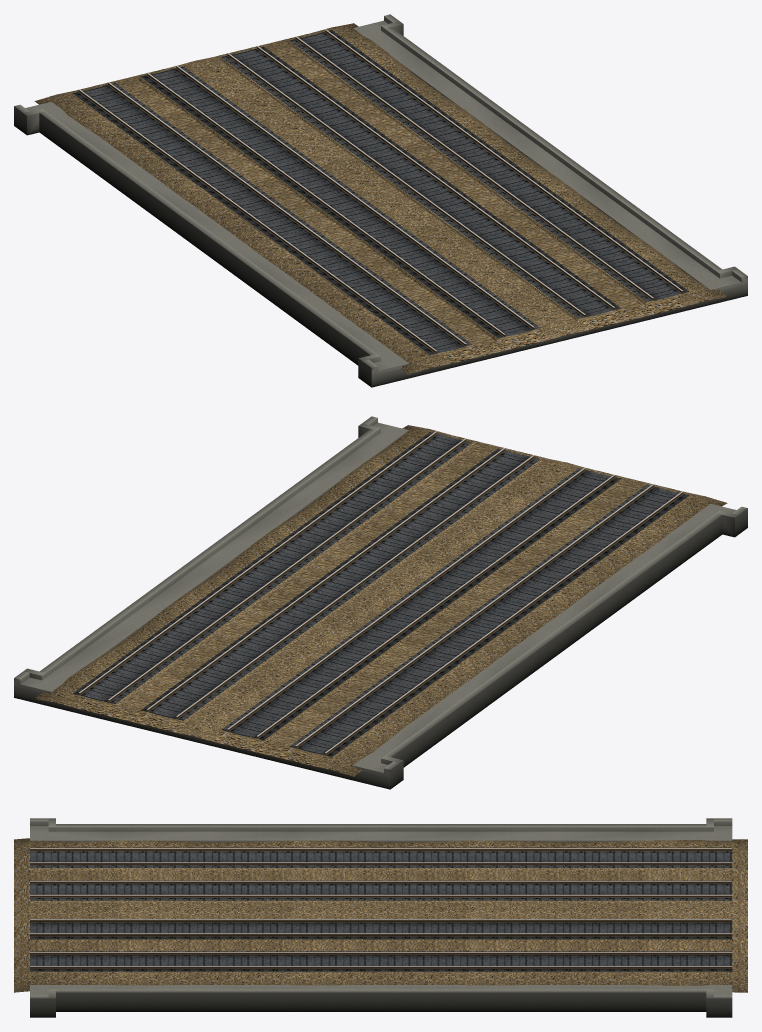
File: 4RAIL_JR.glb
The picture shows the model from 3 angles, top to bottom: view 1: azimuth 30°, elevation 25°; view 2: azimuth 150°, elevation 25°; view 3: azimuth 270°, elevation 25°; orthographic projection.
Parts seen in each view (by area): view 1: obj4; view 2: obj4; view 3: obj4.
Boxes of the visible parts, x1,y1,x2,y2 form: obj4: (14, 14, 747, 387); obj4: (14, 416, 747, 789); obj4: (14, 818, 747, 1017).
Size of the model in its own units: 60.76 by 3.19 by 105.
Materials: 4 (3 with a texture image).
